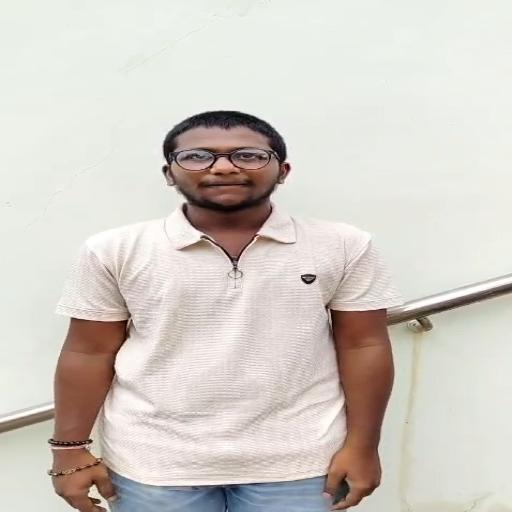employee-detectio-system: (59, 105, 404, 446)
